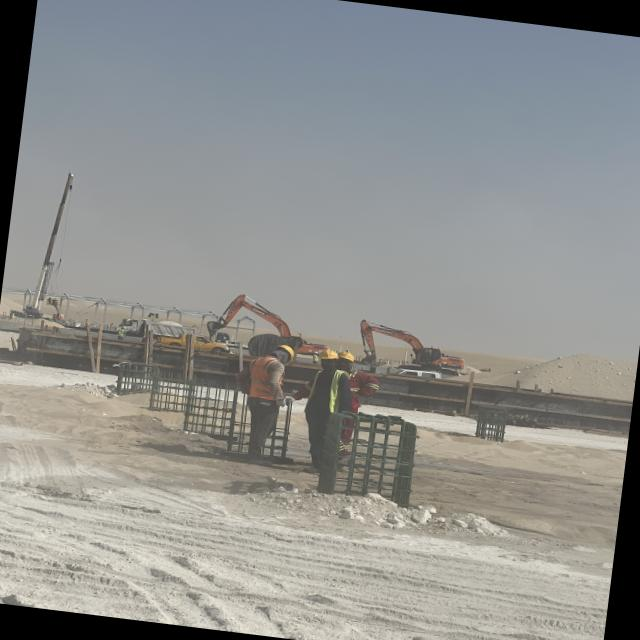Excavator: (201, 286, 345, 372), (347, 310, 468, 385)
Mobile Crane: (17, 162, 78, 330)
